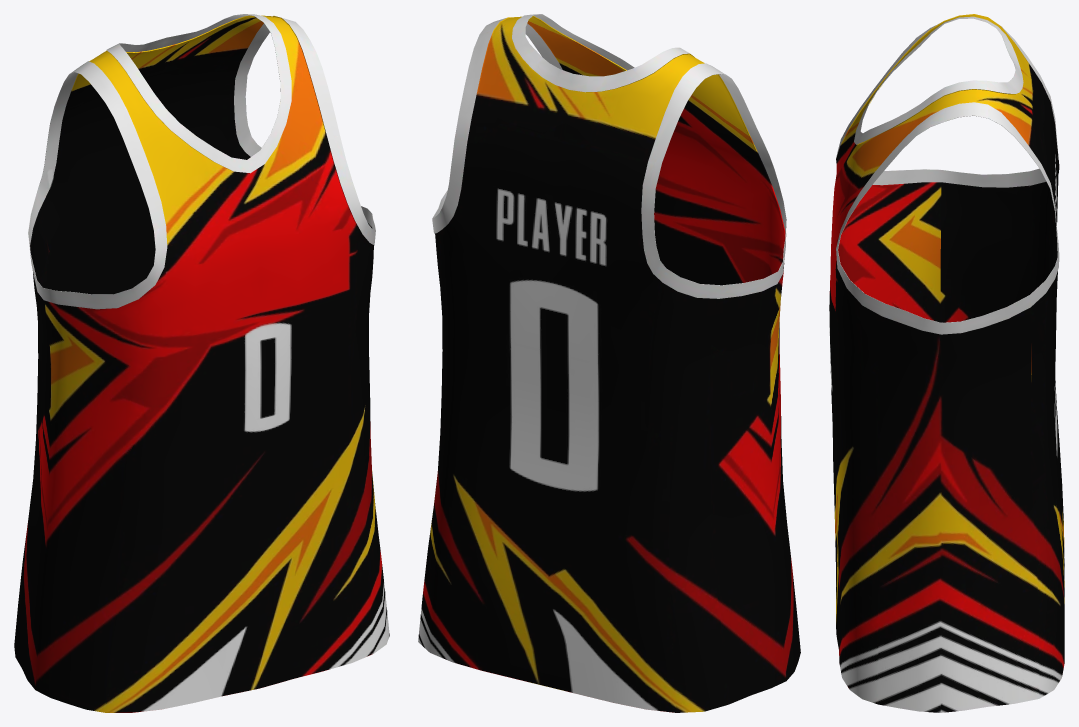
File: jersey-basquet-llamas.glb
3 renders of one model, left to right at view 1: azimuth 30°, elevation 25°; view 2: azimuth 150°, elevation 25°; view 3: azimuth 270°, elevation 25°, orthographic. The views are drawn at different scales.
Parts seen in each view (by area): view 1: front002, front002_1; view 2: front002, front002_1; view 3: front002, front002_1.
Boxes of the visible parts, box(x1,y1,x2,y2) form: front002: box(14, 14, 389, 712); front002_1: box(31, 16, 263, 294); front002: box(418, 14, 800, 712); front002_1: box(527, 16, 784, 285); front002: box(829, 14, 1064, 712); front002_1: box(838, 96, 1057, 322).
Size of the model in its own units: 0.4123 by 0.7 by 0.2556.
Materials: 2 (2 with a texture image).
